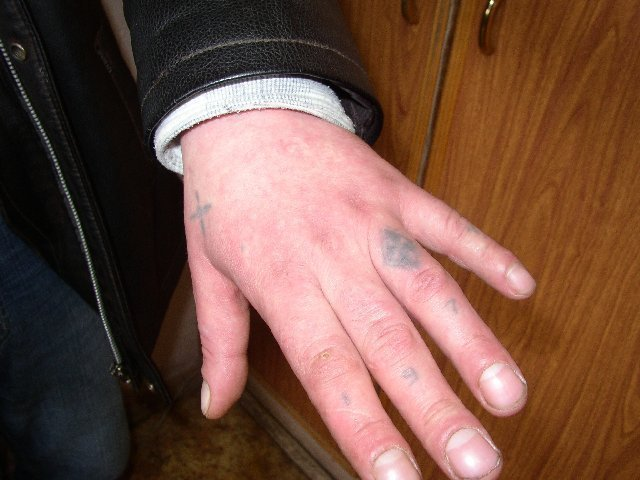tatu9_krest: (190, 181, 220, 235)
